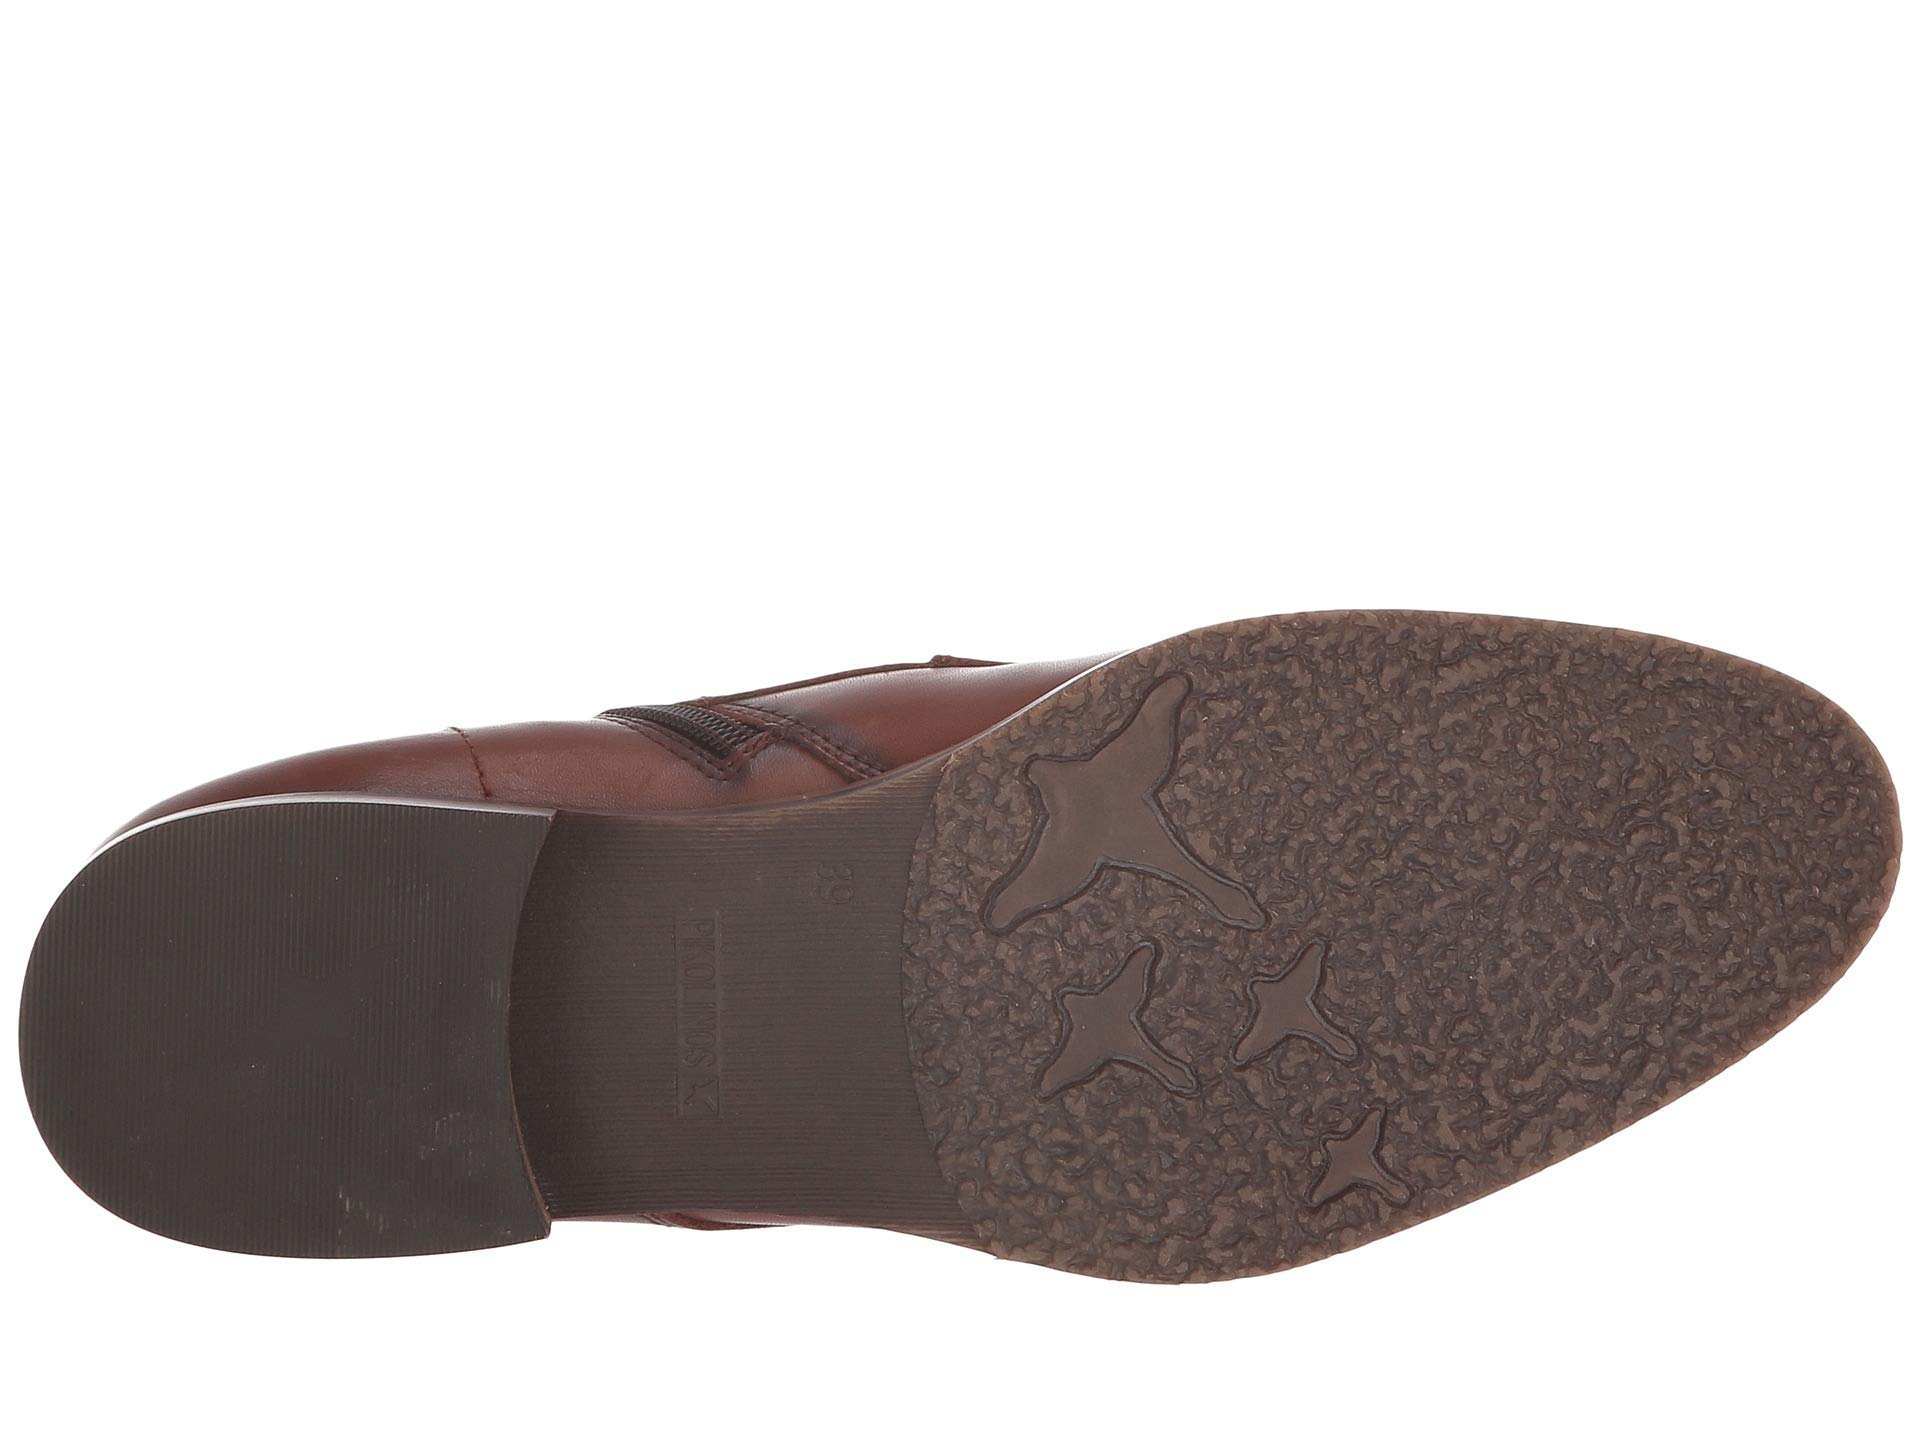line: (139, 889, 455, 1177)
other: (1303, 762, 1791, 924)
